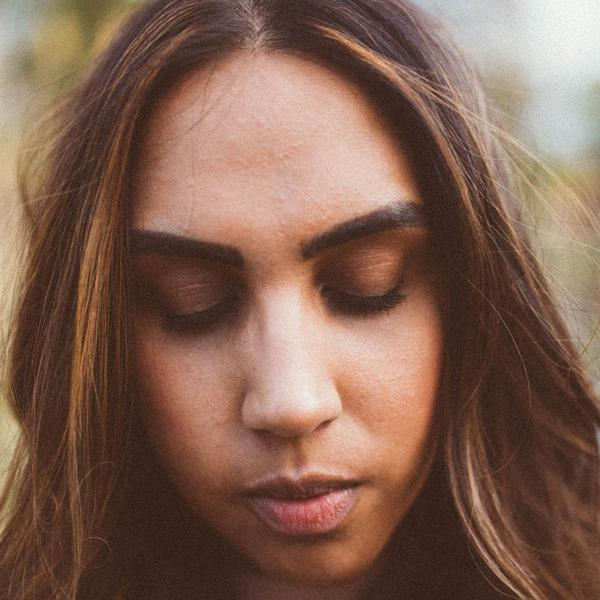Eyes: (309, 237, 425, 321), (144, 268, 247, 340)
